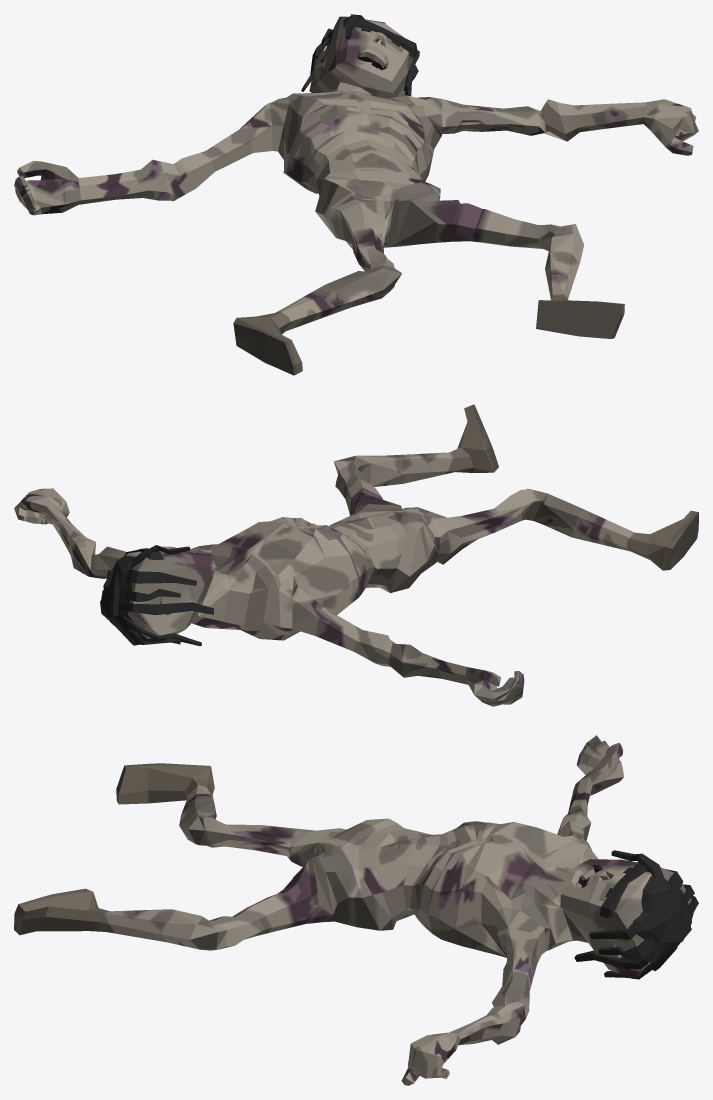
The model's file is apoc_SM_DeadBody_Male_04.gltf.
The picture shows the model from 3 angles, top to bottom: view 1: azimuth 30°, elevation 25°; view 2: azimuth 150°, elevation 25°; view 3: azimuth 270°, elevation 25°; orthographic projection. The views are drawn at different scales.
Parts seen in each view (by area): view 1: SM_DeadBody_Male_04; view 2: SM_DeadBody_Male_04; view 3: SM_DeadBody_Male_04.
Part boxes in pixels (bbox=[...]): SM_DeadBody_Male_04: bbox=[14, 14, 698, 375]; SM_DeadBody_Male_04: bbox=[14, 404, 698, 706]; SM_DeadBody_Male_04: bbox=[14, 735, 698, 1085].
Size of the model in its own units: 1.81 by 0.3293 by 1.71.
1 material, 1 textured.
